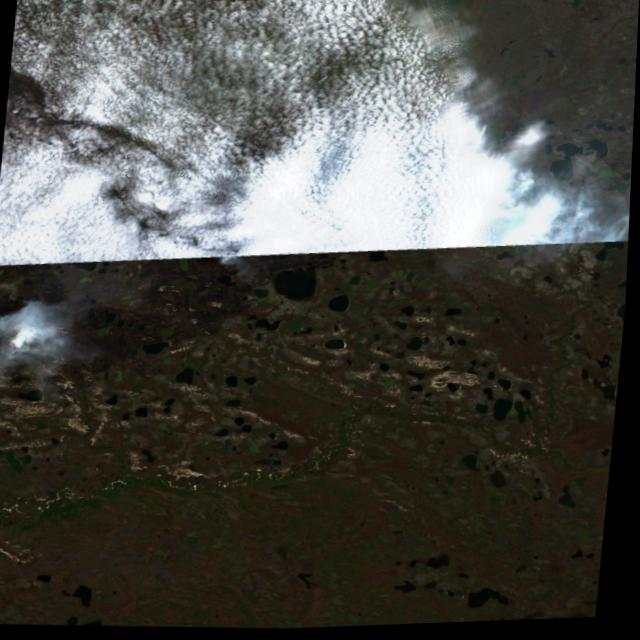fire: (0, 63, 574, 396)
